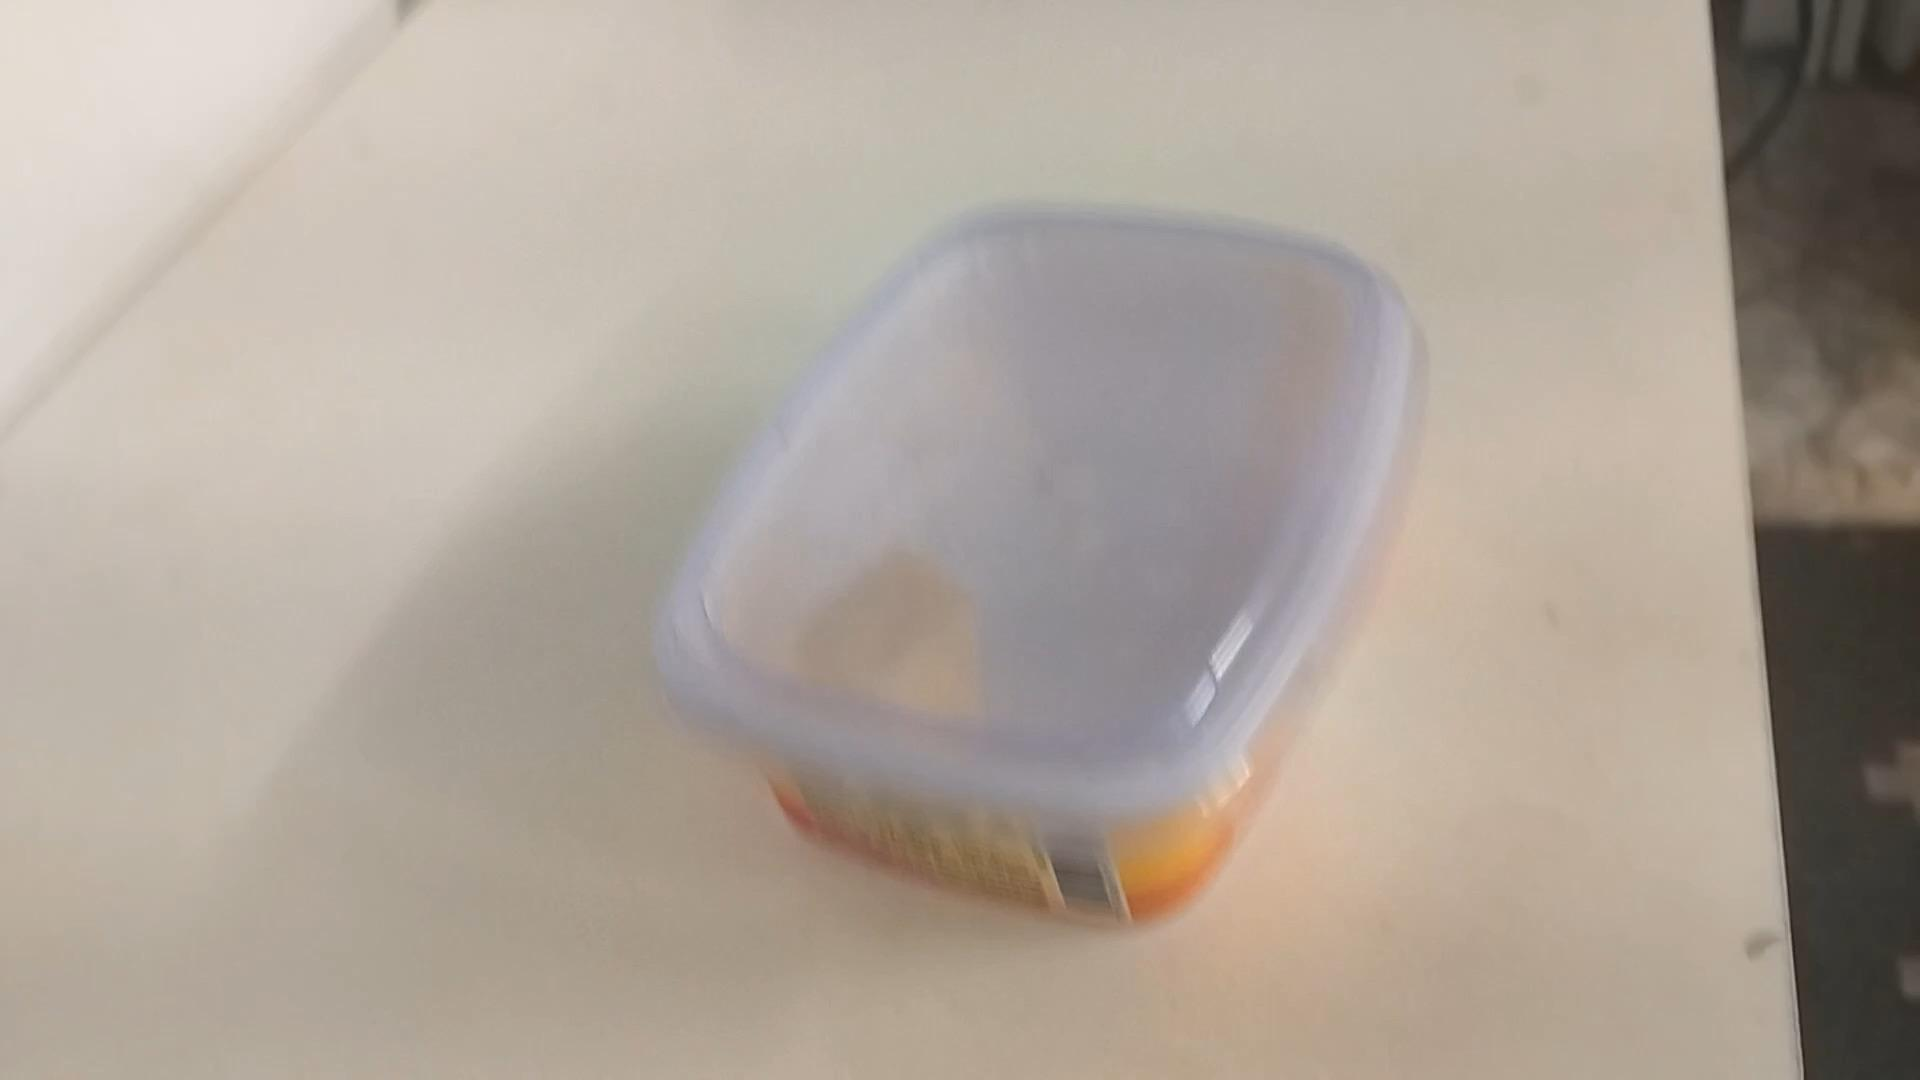butter: (646, 204, 1420, 934)
